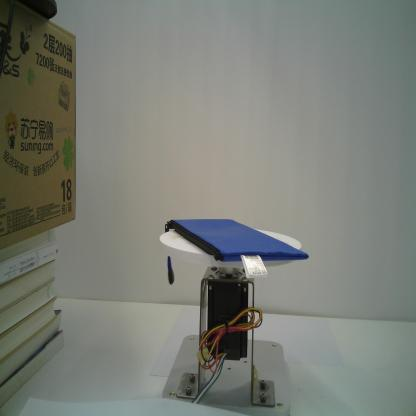Stationery: (164, 218, 310, 287)
